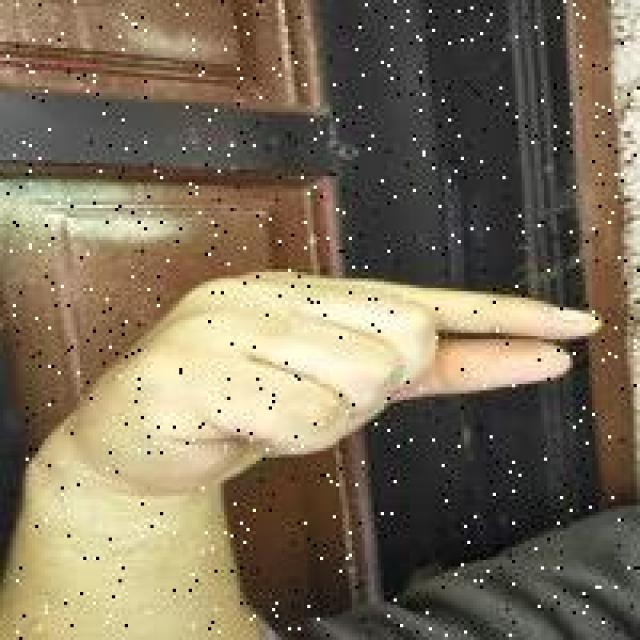G: (101, 268, 603, 522)
